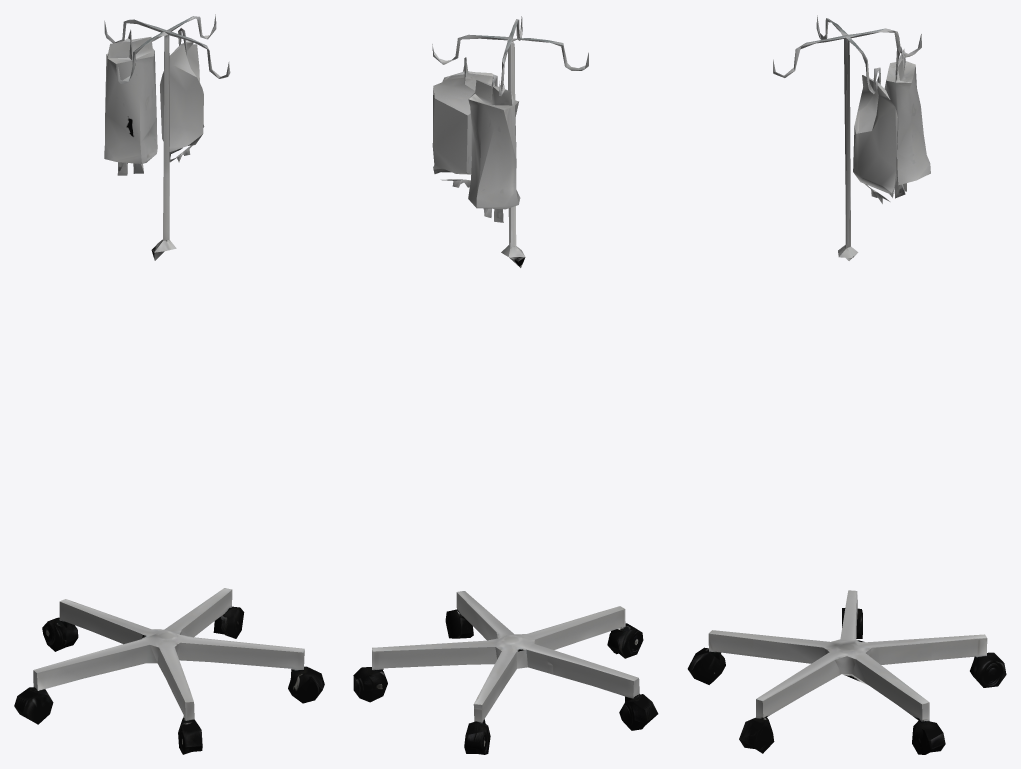
The picture shows the model from 3 angles, left to right: view 1: azimuth 30°, elevation 25°; view 2: azimuth 150°, elevation 25°; view 3: azimuth 270°, elevation 25°; orthographic projection.
Visible parts, largest first — view 1: repaired; view 2: repaired; view 3: repaired.
Part boxes in pixels (bbox=[...]): repaired: bbox=[14, 14, 324, 754]; repaired: bbox=[353, 16, 658, 754]; repaired: bbox=[687, 15, 1006, 754].
Size of the model in its own units: 0.4186 by 1 by 0.4329.
